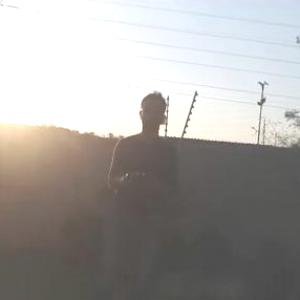follow: (103, 86, 180, 299)
